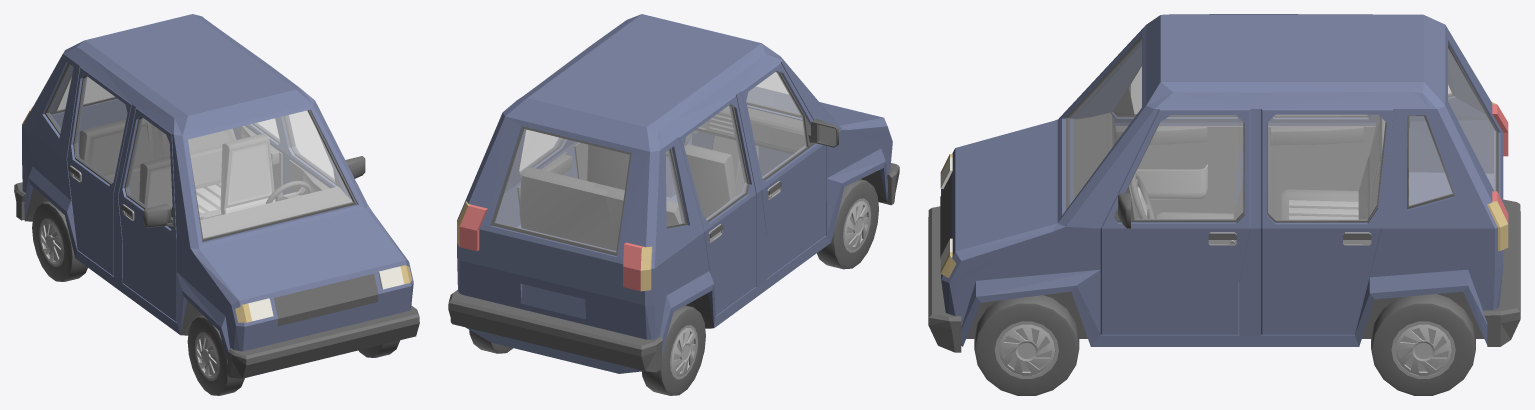
Rendered from car.gltf.
3 renders of one model, left to right at view 1: azimuth 30°, elevation 25°; view 2: azimuth 150°, elevation 25°; view 3: azimuth 270°, elevation 25°, orthographic. The views are drawn at different scales.
Parts seen in each view (by area): view 1: Chassis, Windows, Interior, FR_Door, RR_Door, FL_Door, RR_Wheel, FR_Wheel, RL_Door, Front_Lights, Steerwheel, FL_Wheel; view 2: Chassis, Interior, Windows, FR_Door, RR_Door, FR_Wheel, RR_Wheel, RL_Door, Brake_Lights, FL_Door, Turn_Lights_r, RL_Wheel; view 3: Chassis, FL_Door, RL_Door, Windows, FR_Door, RL_Wheel, FL_Wheel, RR_Door, Interior, Turn_Lights_l, Steerwheel, Brake_Lights.
Boxes of the visible parts, x1=… form: Chassis: x1=14, y1=14, x2=419, y2=378; Windows: x1=47, y1=65, x2=352, y2=238; Interior: x1=79, y1=118, x2=351, y2=237; FR_Door: x1=118, y1=108, x2=176, y2=321; RR_Door: x1=67, y1=67, x2=131, y2=276; FL_Door: x1=279, y1=111, x2=365, y2=194; RR_Wheel: x1=32, y1=201, x2=87, y2=281; FR_Wheel: x1=187, y1=315, x2=244, y2=395; RL_Door: x1=238, y1=118, x2=283, y2=201; Front_Lights: x1=248, y1=266, x2=404, y2=321; Steerwheel: x1=266, y1=180, x2=311, y2=203; FL_Wheel: x1=358, y1=340, x2=399, y2=357; Chassis: x1=448, y1=14, x2=899, y2=373; Interior: x1=519, y1=106, x2=805, y2=250; Windows: x1=495, y1=72, x2=799, y2=251; FR_Door: x1=741, y1=62, x2=838, y2=278; RR_Door: x1=678, y1=95, x2=756, y2=315; FR_Wheel: x1=817, y1=179, x2=878, y2=269; RR_Wheel: x1=642, y1=305, x2=705, y2=395; RL_Door: x1=515, y1=129, x2=572, y2=224; Brake_Lights: x1=459, y1=204, x2=643, y2=291; FL_Door: x1=572, y1=141, x2=588, y2=180; Turn_Lights_r: x1=640, y1=246, x2=652, y2=291; RL_Wheel: x1=469, y1=330, x2=513, y2=353; Chassis: x1=928, y1=14, x2=1520, y2=352; FL_Door: x1=1100, y1=109, x2=1250, y2=334; RL_Door: x1=1261, y1=109, x2=1393, y2=334; Windows: x1=1068, y1=39, x2=1495, y2=206; FR_Door: x1=1106, y1=55, x2=1243, y2=218; RL_Wheel: x1=1371, y1=294, x2=1475, y2=395; FL_Wheel: x1=974, y1=295, x2=1079, y2=395; RR_Door: x1=1268, y1=114, x2=1377, y2=219; Interior: x1=1074, y1=113, x2=1385, y2=219; Turn_Lights_l: x1=940, y1=201, x2=1508, y2=277; Steerwheel: x1=1130, y1=173, x2=1154, y2=218; Brake_Lights: x1=1492, y1=104, x2=1508, y2=223.
Size of the model in its own units: 5.14 by 5.15 by 9.39.
